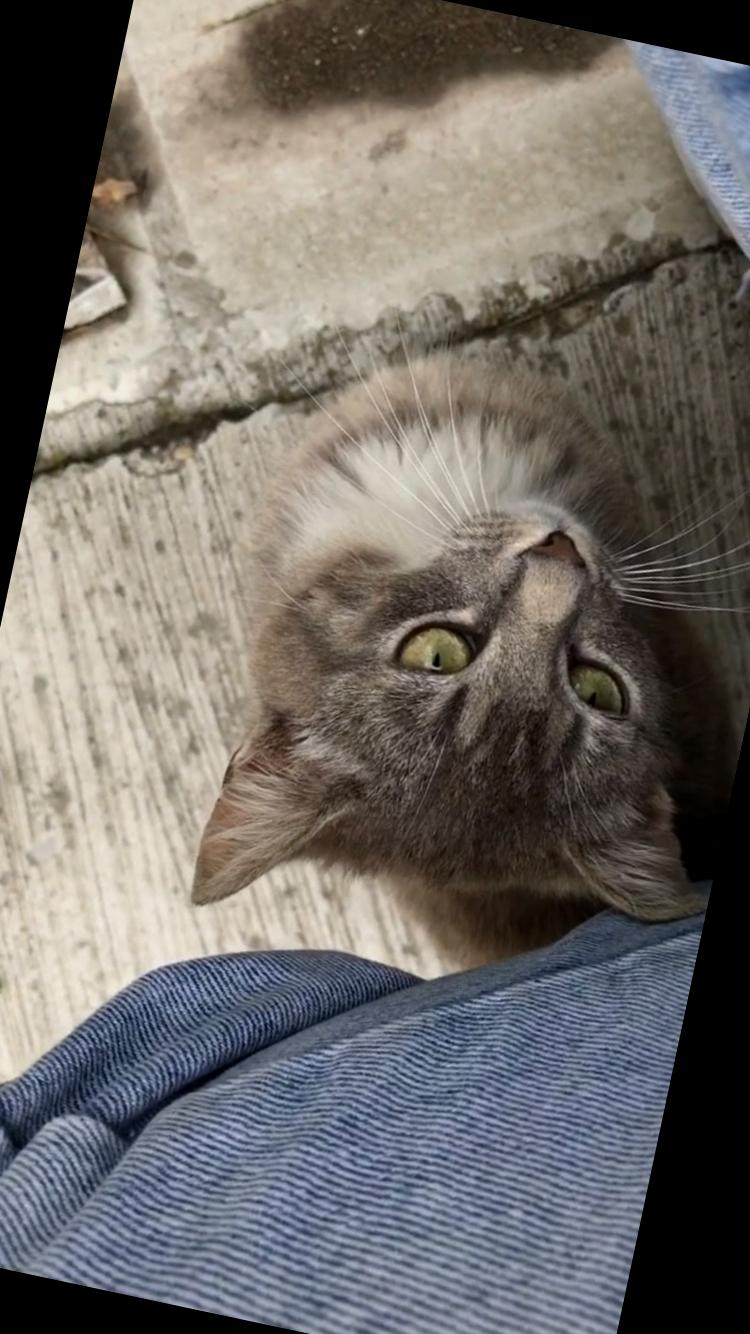macka: (178, 323, 750, 1011)
